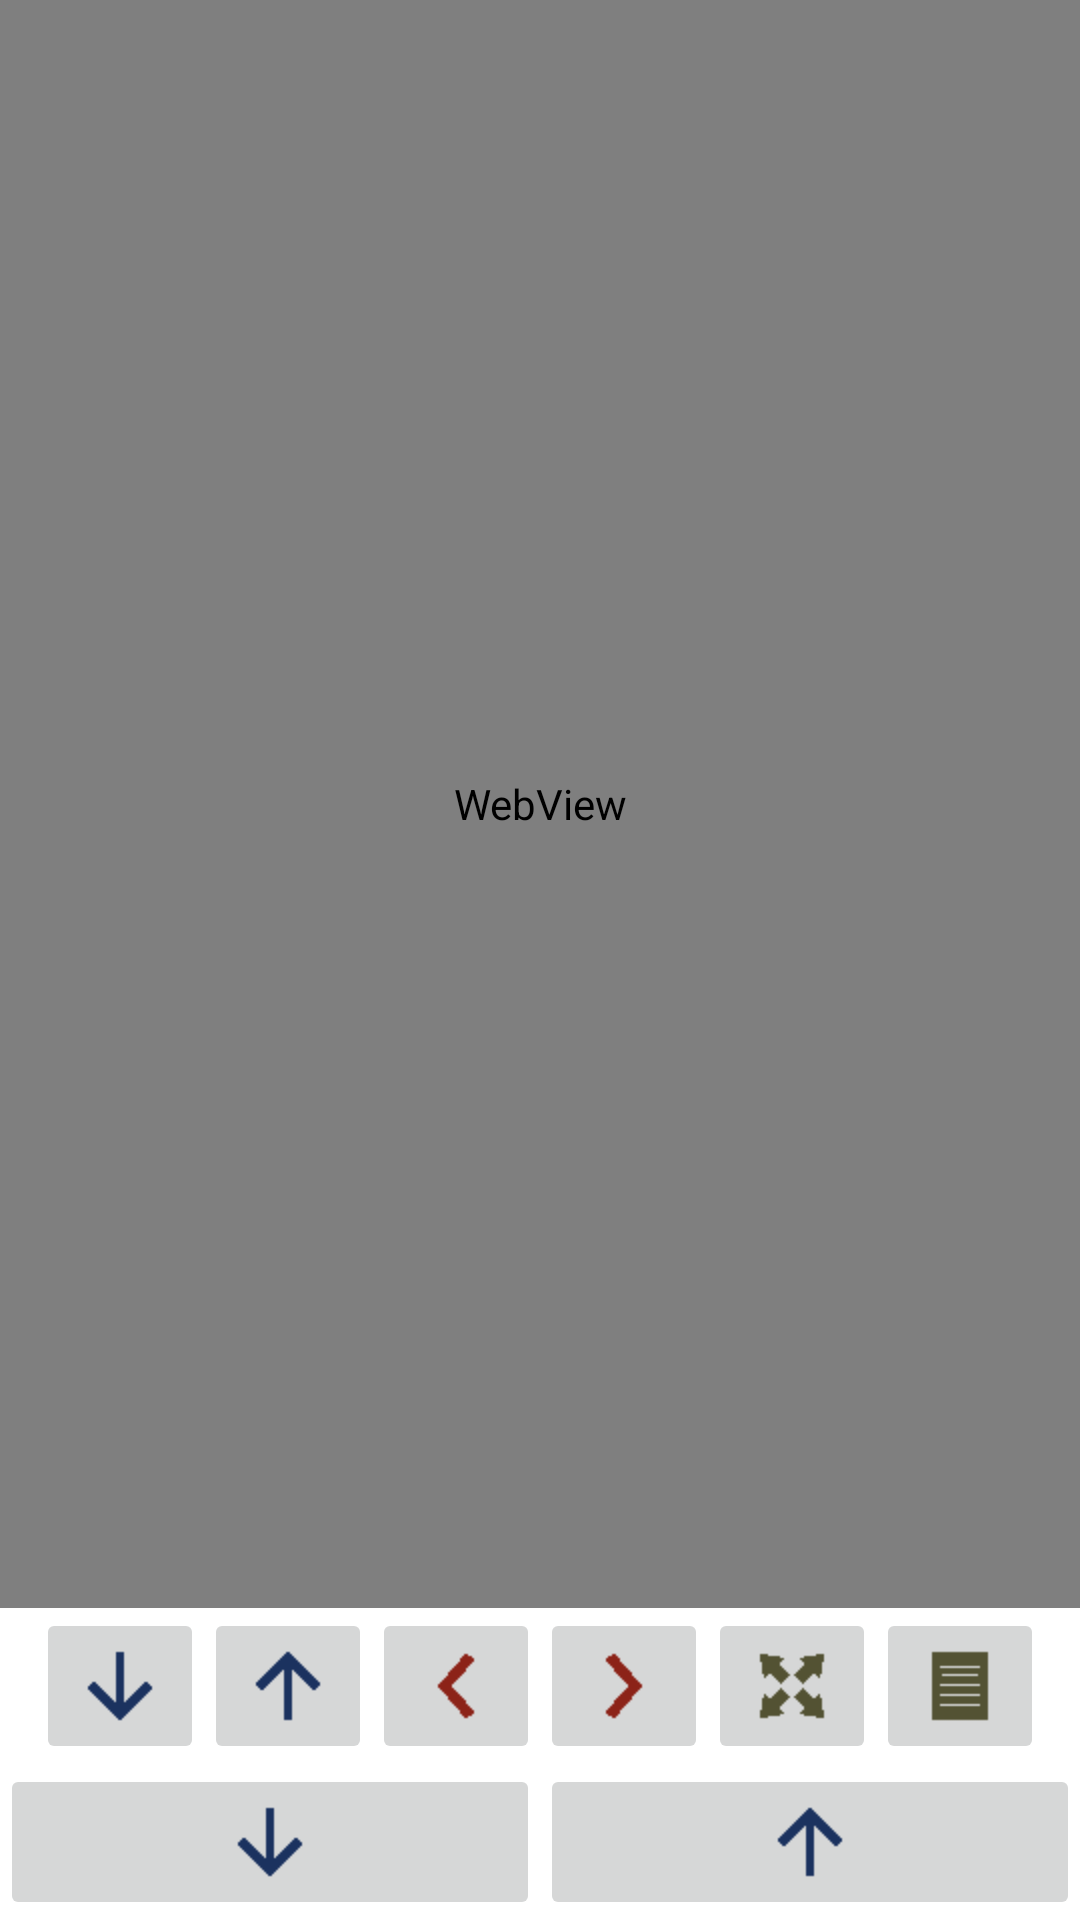

Icon click points for this 1080×1920 phone screenshot, format (x,y):
Chapters: (960,1686)
full screen: (792,1686)
